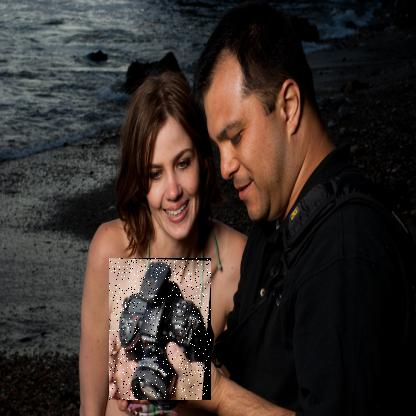Camera: (110, 259, 213, 402)
